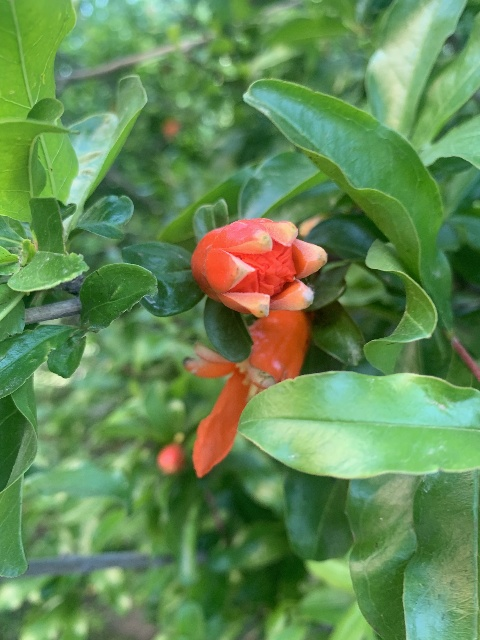bud: (156, 441, 185, 475)
flower: (184, 309, 313, 480), (191, 218, 326, 315)
